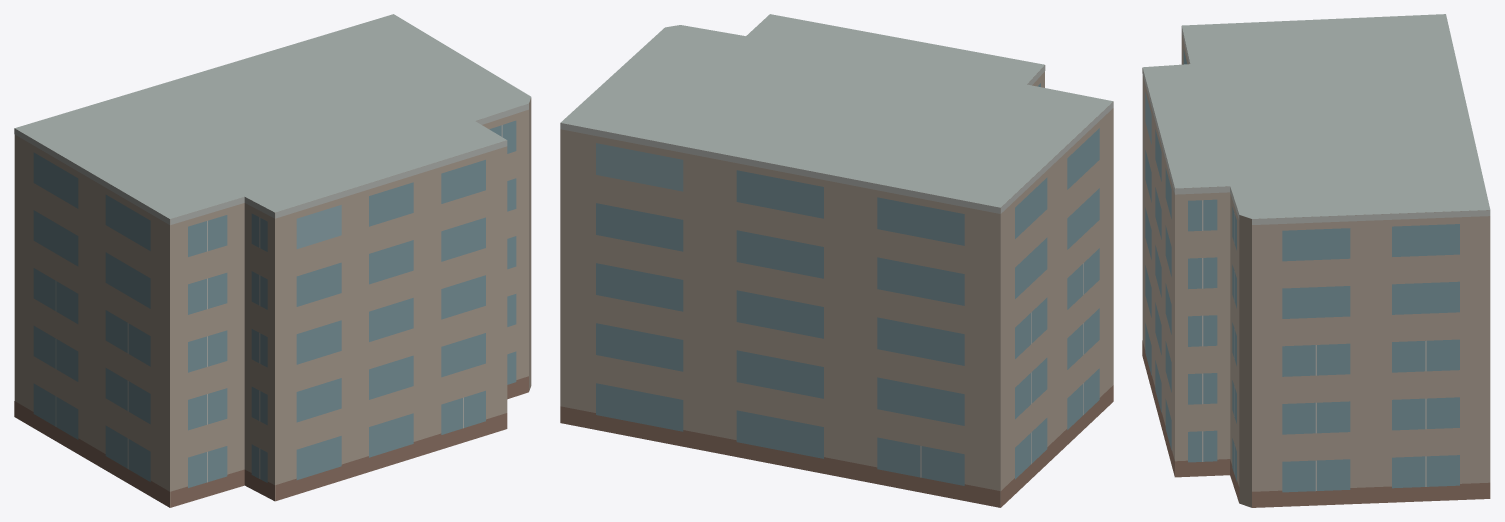
File: survey-upis-32717595.glb
3 views of the same model, side by side, from view 1: azimuth 30°, elevation 25°; view 2: azimuth 150°, elevation 25°; view 3: azimuth 270°, elevation 25° (orthographic). The views are drawn at different scales.
Visible parts, largest first — view 1: survey-upis-32717595.tmp; view 2: survey-upis-32717595.tmp; view 3: survey-upis-32717595.tmp.
Boxes of the visible parts, x1,y1,x2,y2 form: survey-upis-32717595.tmp: (14, 14, 531, 507); survey-upis-32717595.tmp: (560, 14, 1113, 507); survey-upis-32717595.tmp: (1142, 14, 1490, 507).
Bounding box in the file's own units: 17.59 × 11.55 × 12.62.
